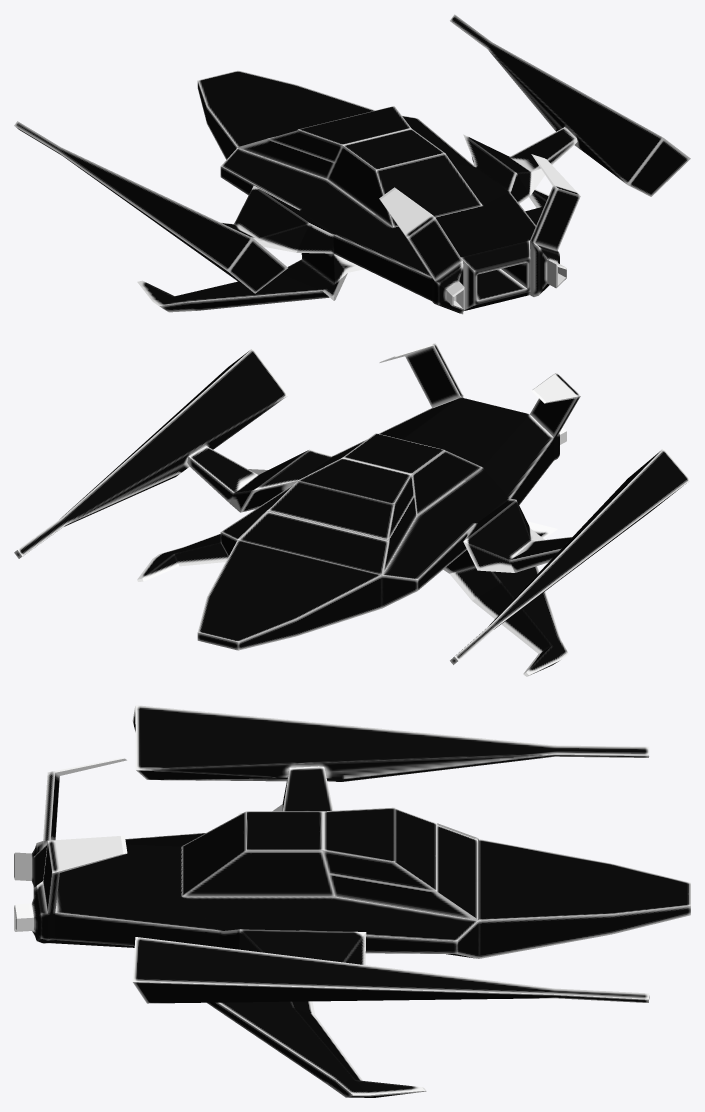
File: spaceship_test_1.fbx
3 views of the same model, one above another, from view 1: azimuth 30°, elevation 25°; view 2: azimuth 150°, elevation 25°; view 3: azimuth 270°, elevation 25° (orthographic). The views are drawn at different scales.
Parts seen in each view (by area): view 1: ship_final_export; view 2: ship_final_export; view 3: ship_final_export.
Part boxes in pixels (x1,y1,x2,y2): ship_final_export: [14, 14, 690, 314]; ship_final_export: [14, 343, 690, 676]; ship_final_export: [14, 705, 690, 1097].
Bounding box in the file's own units: 738 × 808 × 249.
